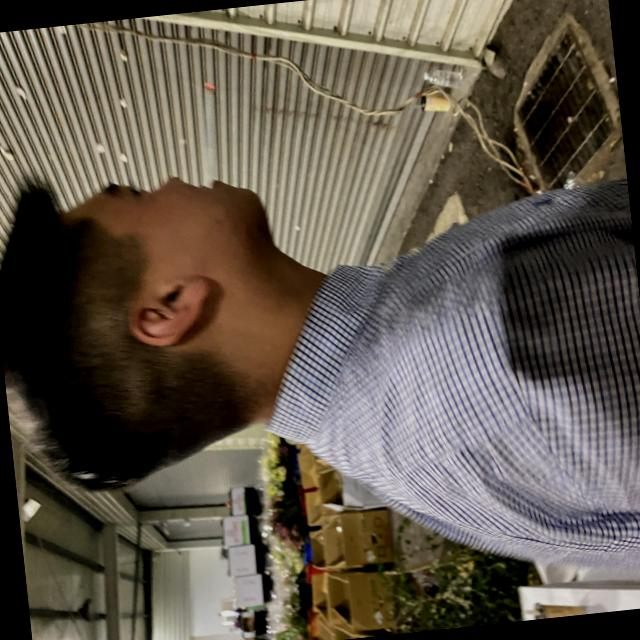smoke: (185, 68, 232, 198)
